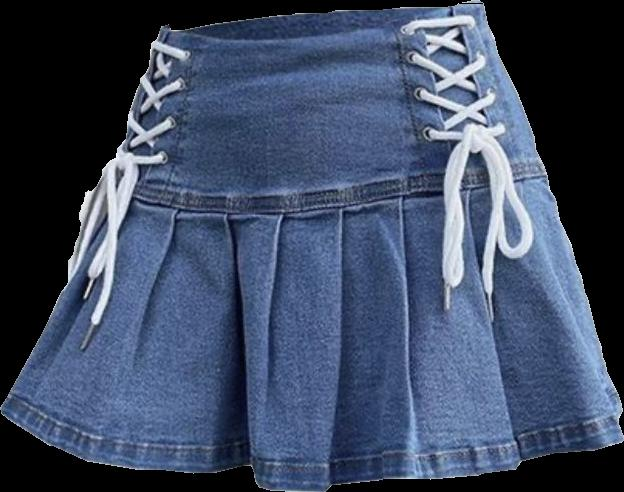Hemline: (0, 406, 623, 491)
Waistline: (105, 172, 545, 212), (161, 2, 480, 44)
